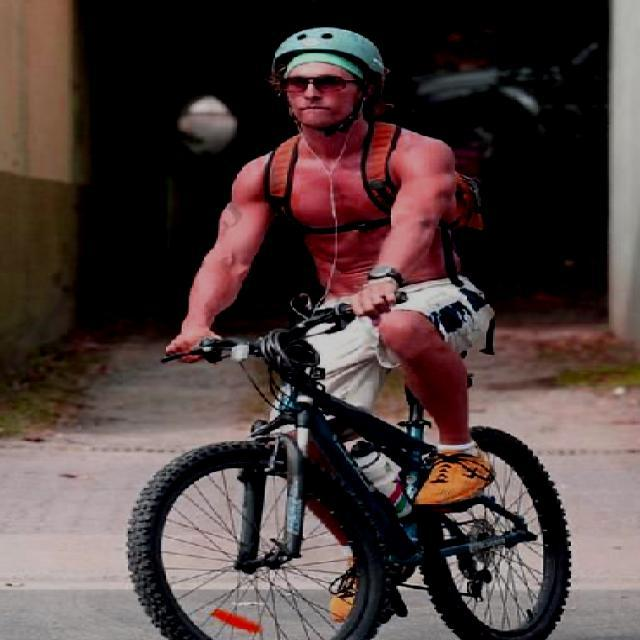Helmet: (260, 21, 388, 142)
